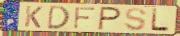D: (46, 5, 71, 31)
F: (73, 6, 97, 30)
K: (24, 5, 44, 29)
L: (150, 8, 170, 32)
P: (97, 6, 123, 32)
S: (123, 7, 148, 32)
